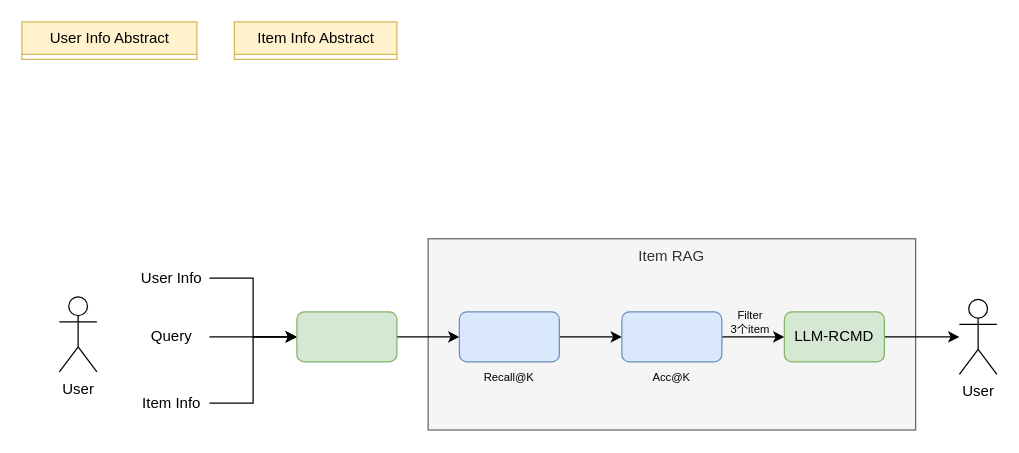
This 1019x453 diagram has some shape labels left out. The centre of each missing label's shape, as x and y in pixels:
"Query Rewriting" belongs at point (346, 336).
"Recall" belongs at point (508, 336).
"Rerank" belongs at point (671, 336).
